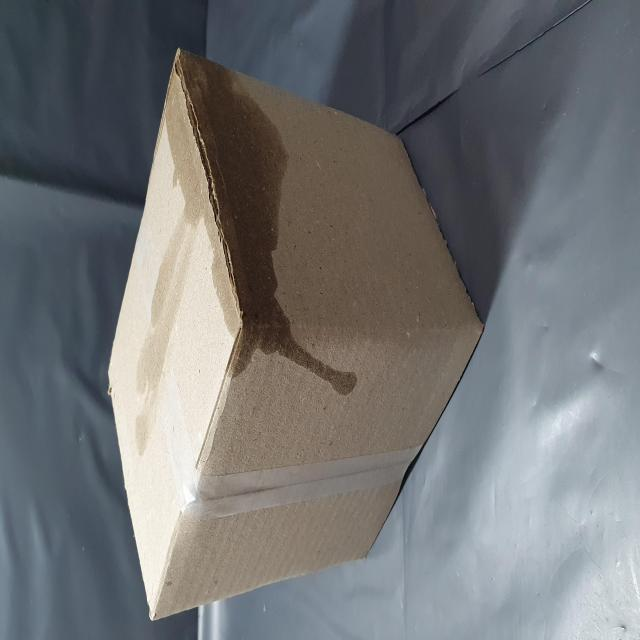wet: (146, 270, 334, 612)
